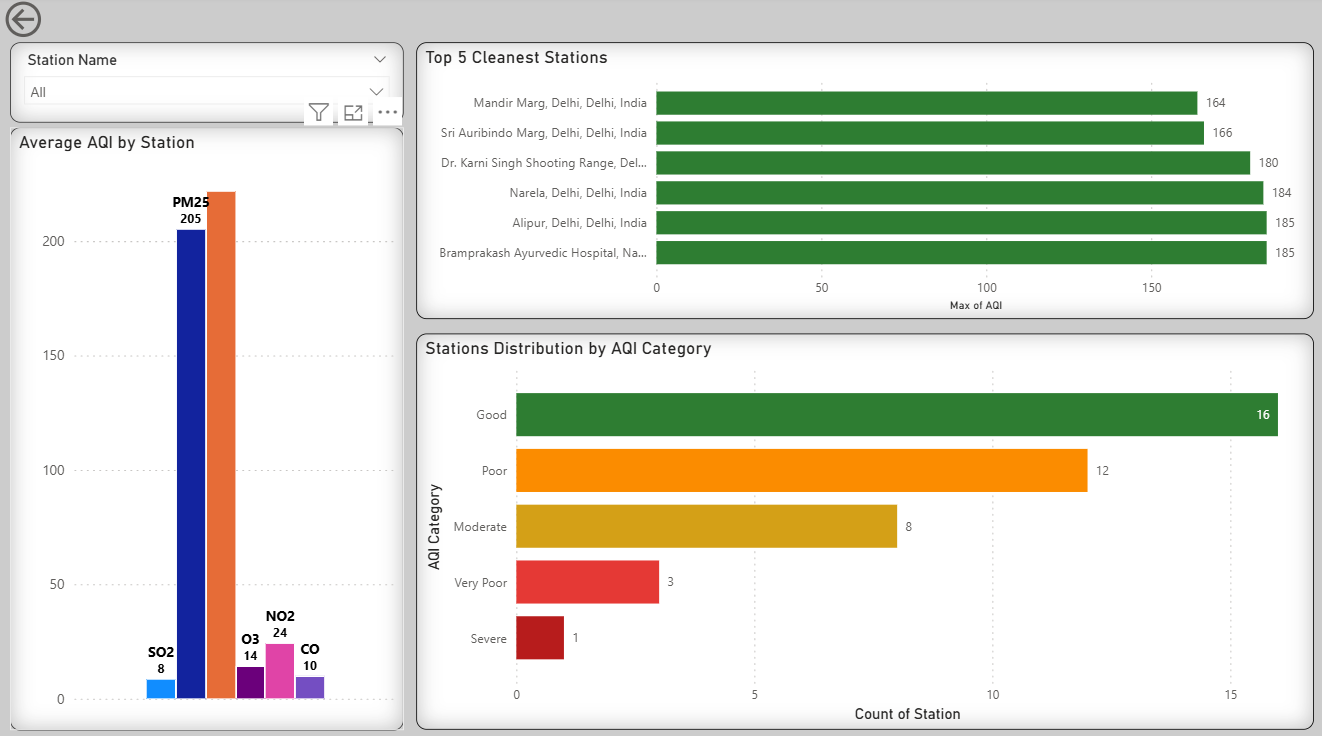

This screenshot's page, from the dashboard's own definition file:
{"tool":"powerbi","page":{"name":"Delhi AQI – Station Performance Analysis","canvas":[1280,720],"ordinal":1},"visuals":[{"type":"slicer","fields":{"Values":["AirQuality_Readings.Station Name"]},"box":[10,45,380,77.5],"z":0},{"type":"clusteredColumnChart","title":"Average AQI by Station","fields":{"Y":["Avg(AirQuality_Readings.SO2)","Avg(AirQuality_Readings.PM25)","Avg(AirQuality_Readings.PM10)","Avg(AirQuality_Readings.O3)","Avg(AirQuality_Readings.NO2)","Avg(AirQuality_Readings.CO)"]},"box":[10,126.2,380,582.5],"z":1000},{"type":"clusteredBarChart","title":"Top 5 Cleanest Stations","fields":{"Category":["AirQuality_Stations.Station Name"],"Y":["Max(AirQuality_Stations.AQI)"]},"box":[401.2,45,866.2,267.5],"z":2000},{"type":"clusteredBarChart","title":"Stations Distribution by AQI Category","fields":{"Category":["AirQuality_Stations.AQI Category 1"],"Y":["CountNonNull(AirQuality_Stations.Station Name)"]},"box":[401.2,326.2,866.2,382.5],"z":3000},{"type":"actionButton","box":[0,0,66.2,45],"z":4000}]}

Visuals, with their boxes on the page's 1280x720 design canvas (x1, y1, x2, y2). These are canvas units, not pixel positions in the 1322x736 screenshot, which may show the page scaled, cropped or inside an application window:
slicer - AirQuality_Readings.Station Name: detection(10, 45, 390, 122)
"Average AQI by Station" clusteredColumnChart: detection(10, 126, 390, 709)
"Top 5 Cleanest Stations" clusteredBarChart: detection(401, 45, 1267, 312)
"Stations Distribution by AQI Category" clusteredBarChart: detection(401, 326, 1267, 709)
actionButton: detection(0, 0, 66, 45)
